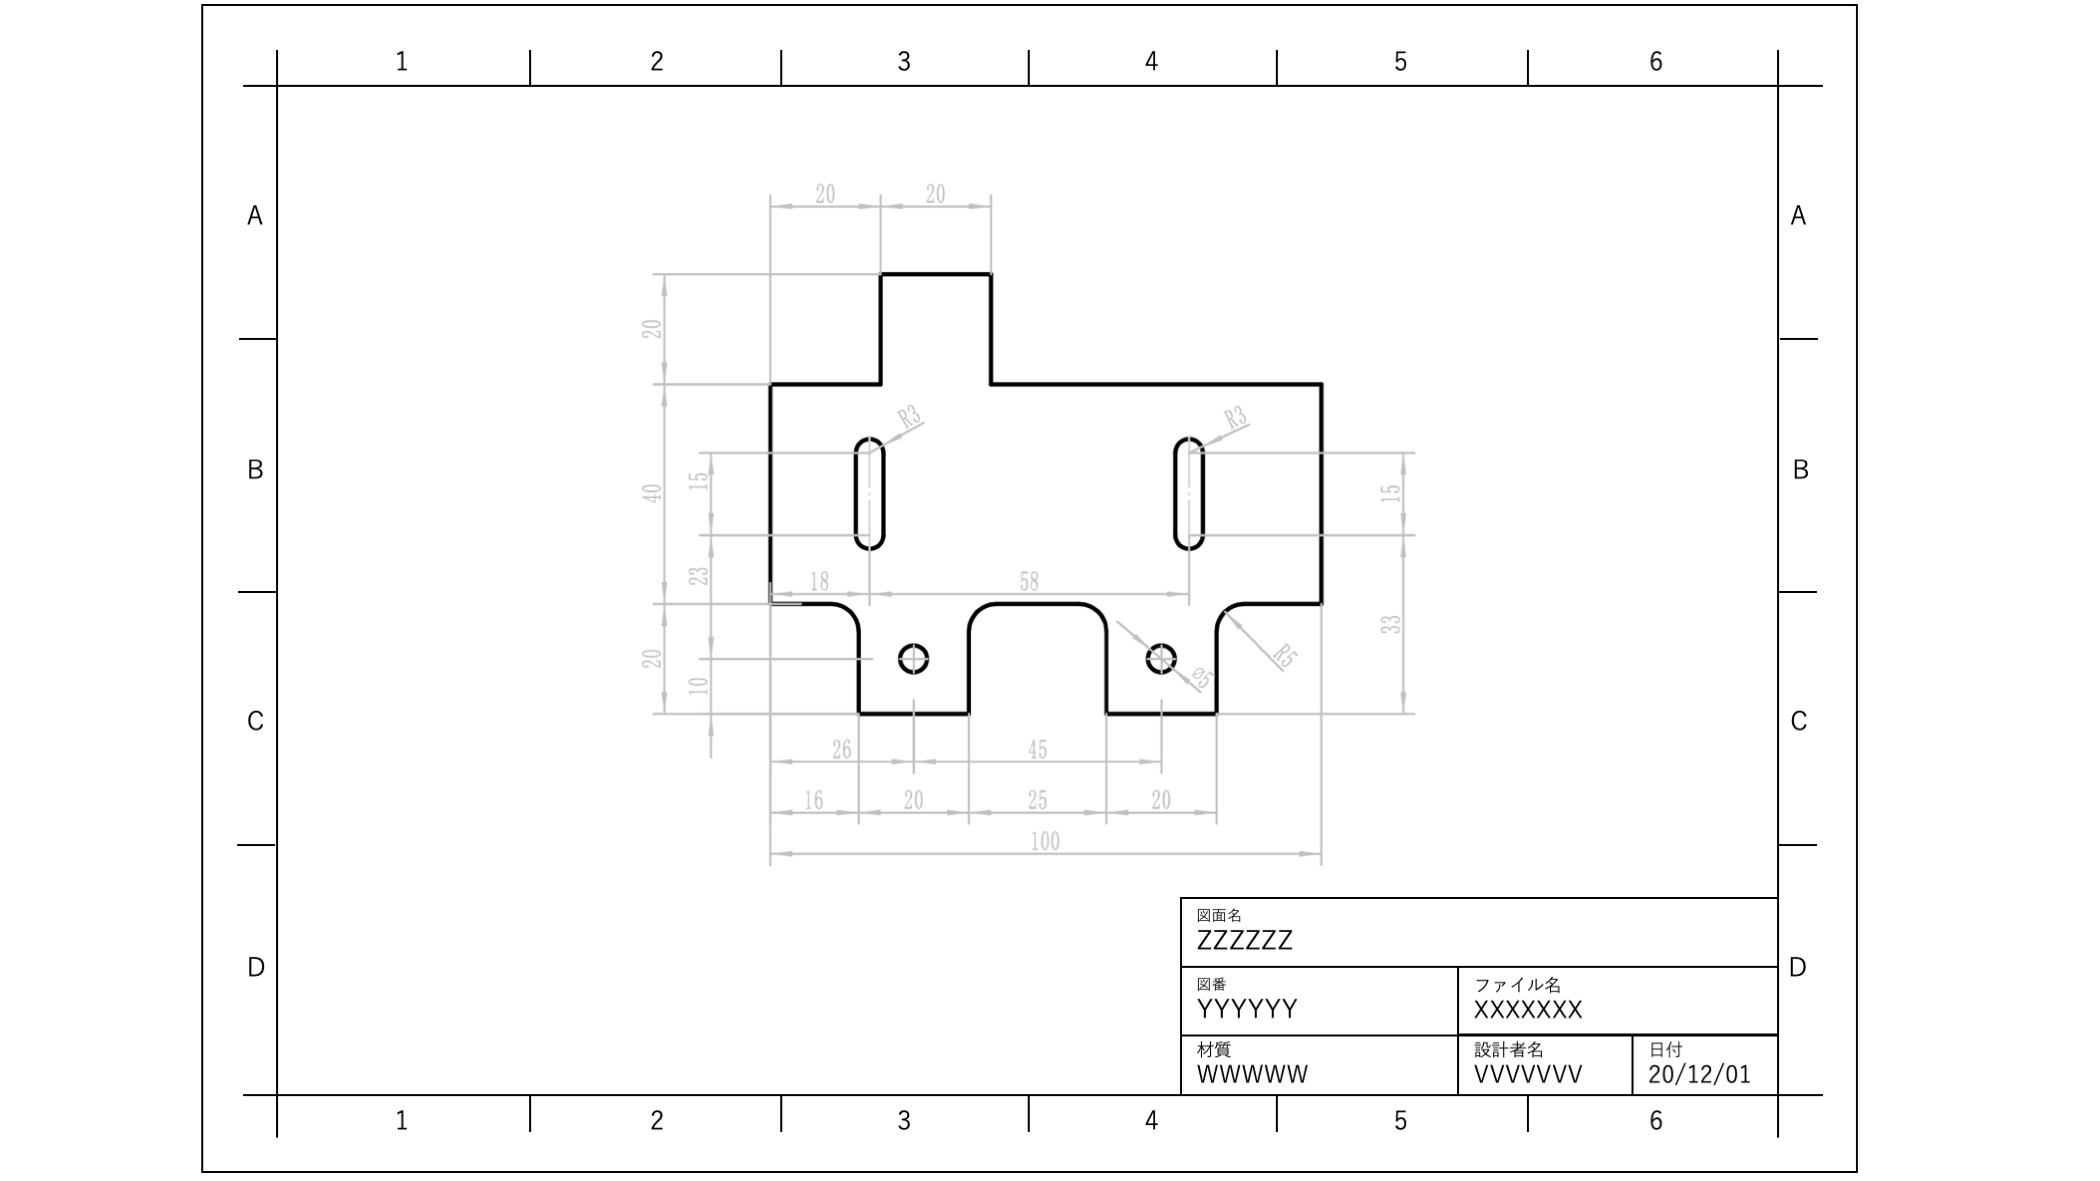circle: (1131, 629, 1188, 679), (899, 642, 930, 685)
round_rectangle: (839, 420, 896, 557), (1170, 428, 1216, 559)
